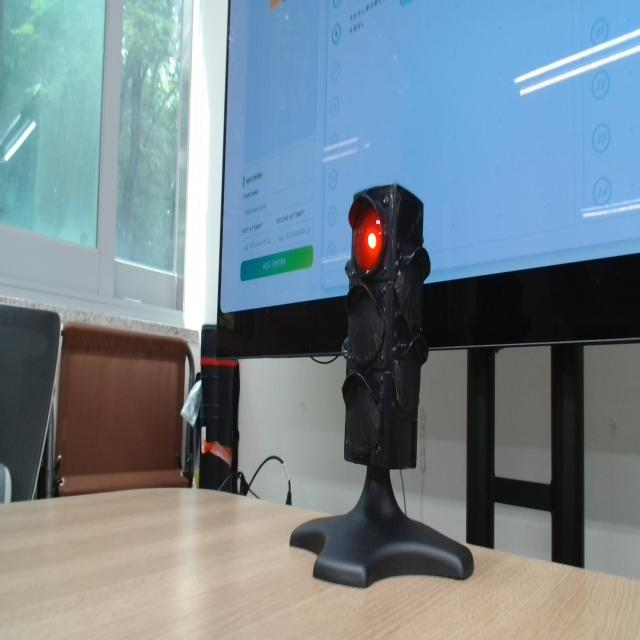red_light: (350, 204, 384, 273)
